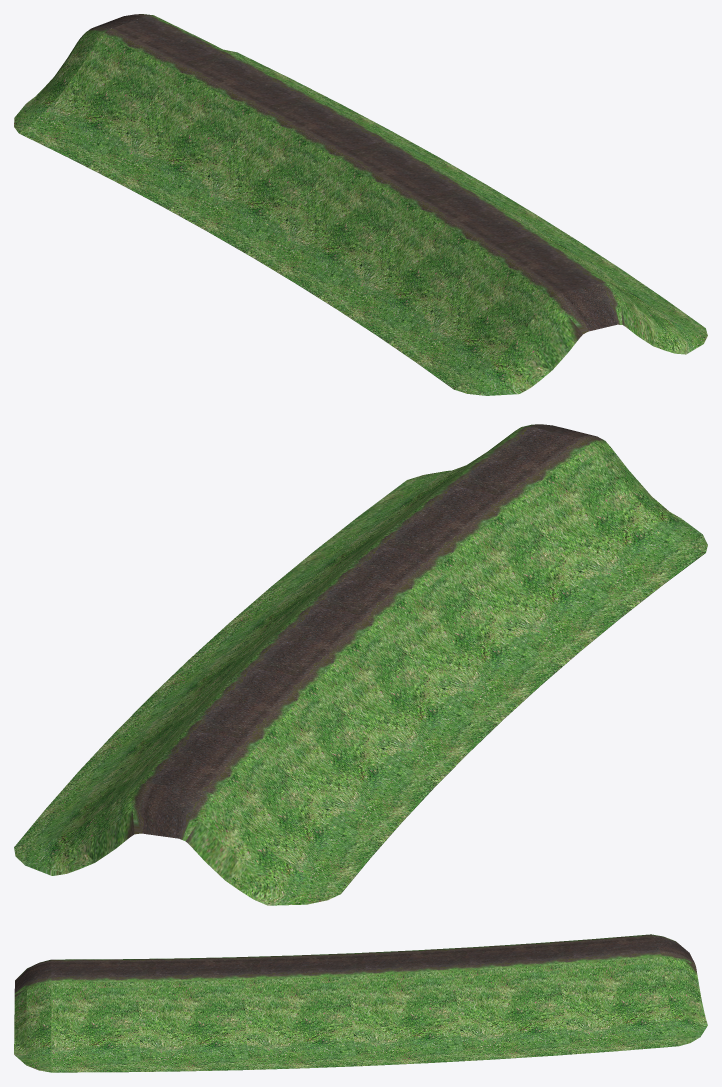
File: 1nasip500l.gltf
3 renders of one model, top to bottom at view 1: azimuth 30°, elevation 25°; view 2: azimuth 150°, elevation 25°; view 3: azimuth 270°, elevation 25°, orthographic. The views are drawn at different scales.
Size of the model in its own units: 46.96 by 10.02 by 114.
1 material, 1 textured.
